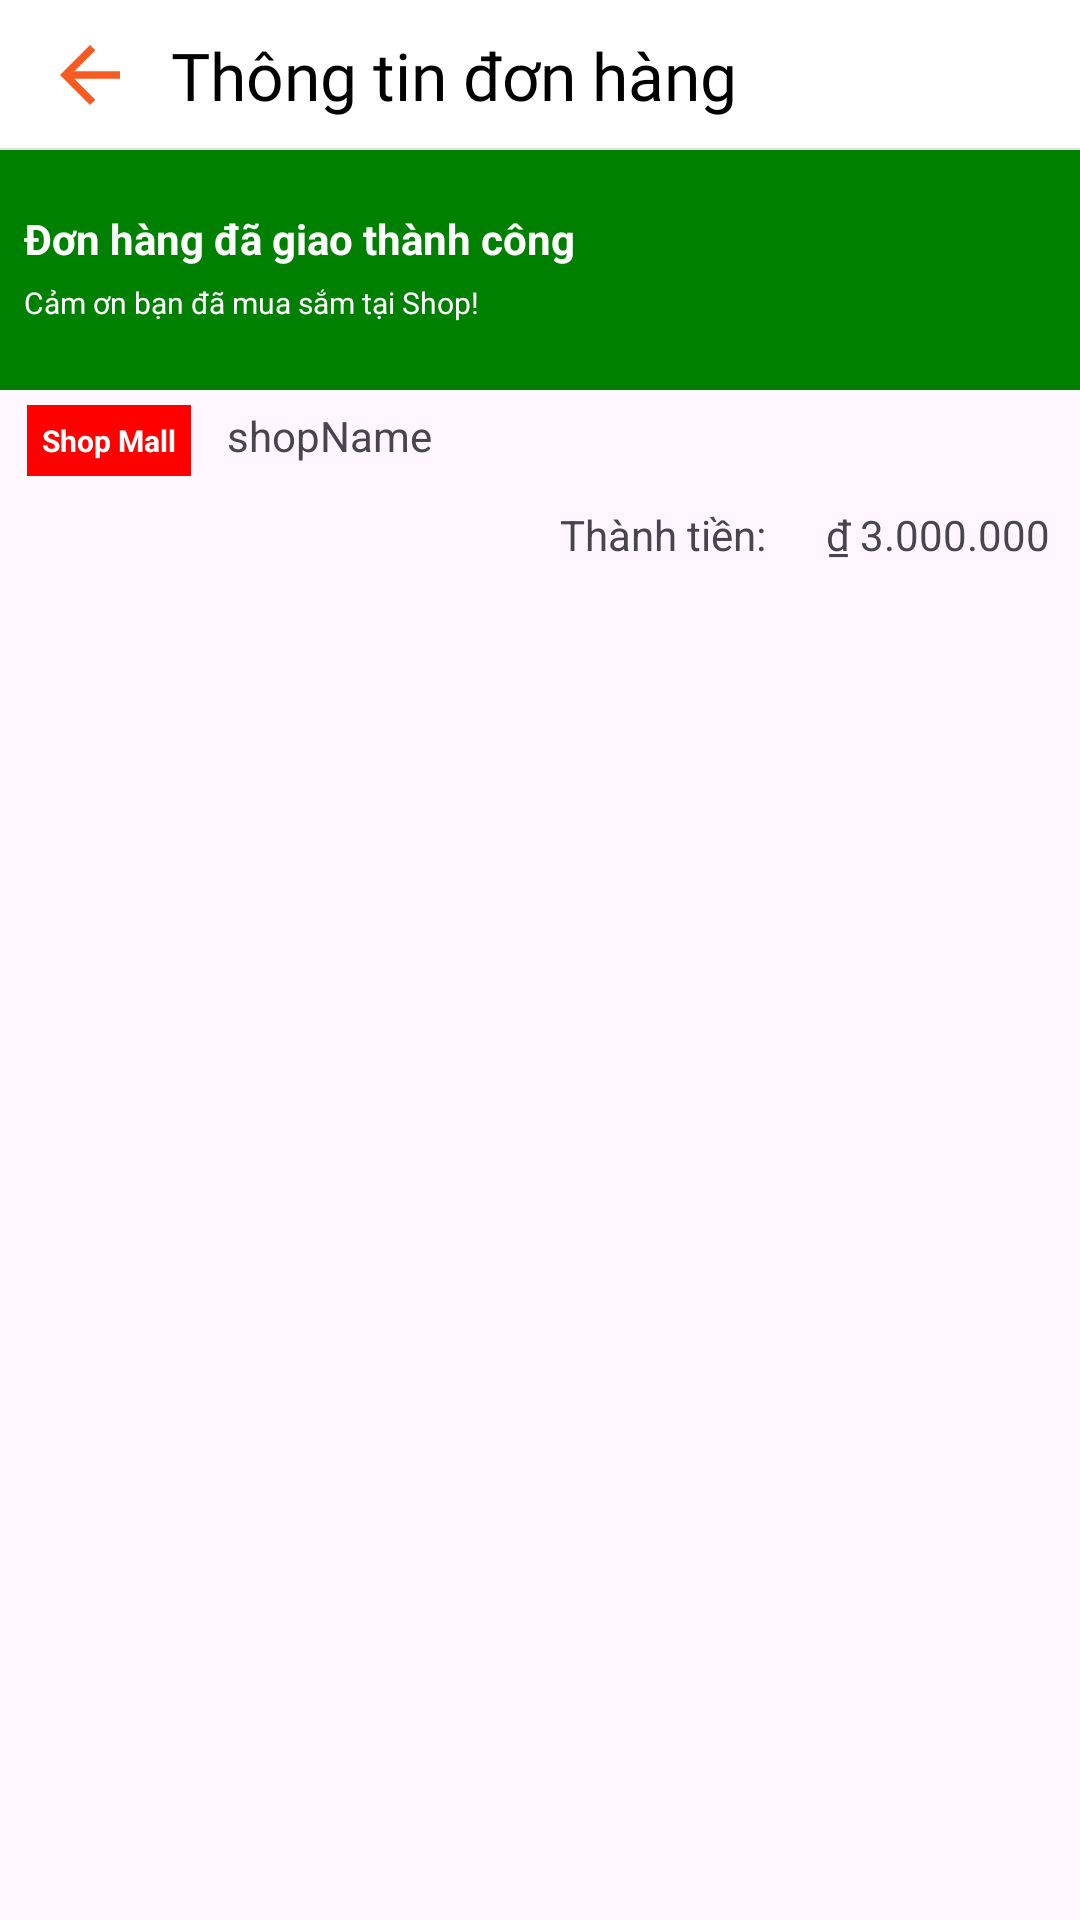

Where to tap for icons on this 1080px x 1920px app screen, as point (x, y):
arrow back: point (90, 75)
